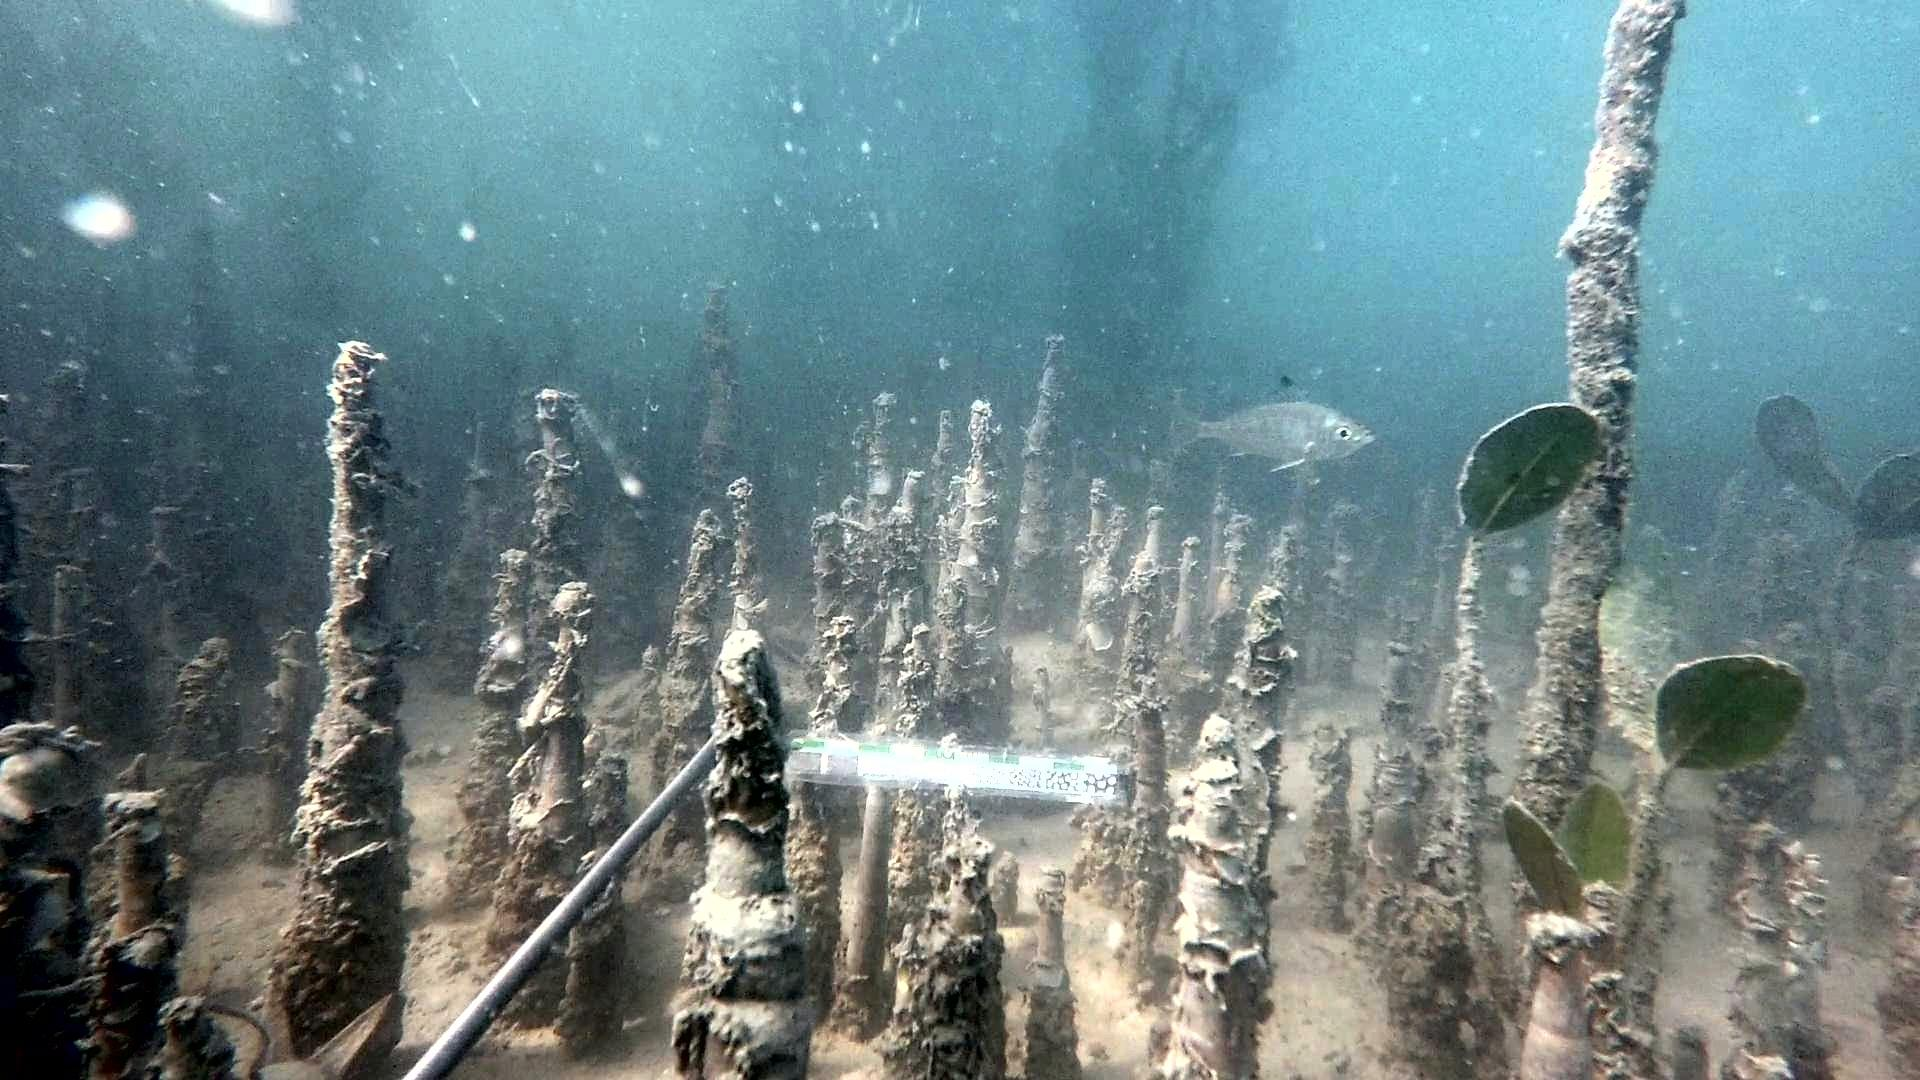gerres: (1167, 375, 1377, 473)
